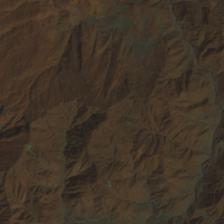landslides: (162, 29, 180, 36)
